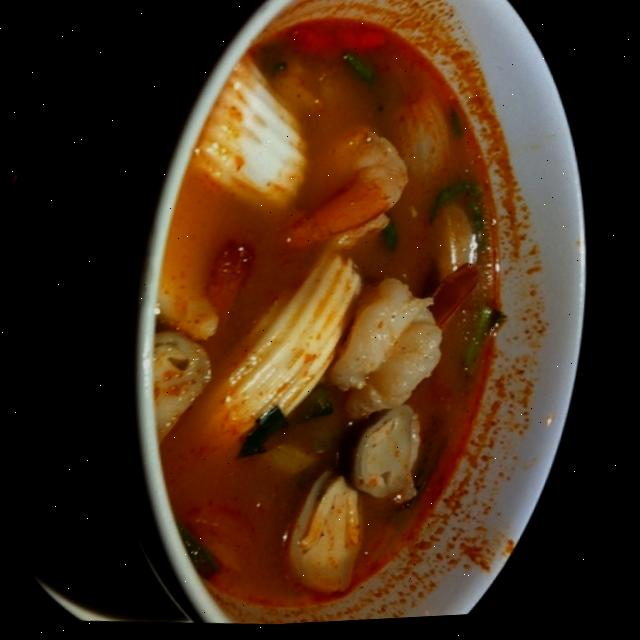汤锅炖物: (130, 0, 578, 634)
